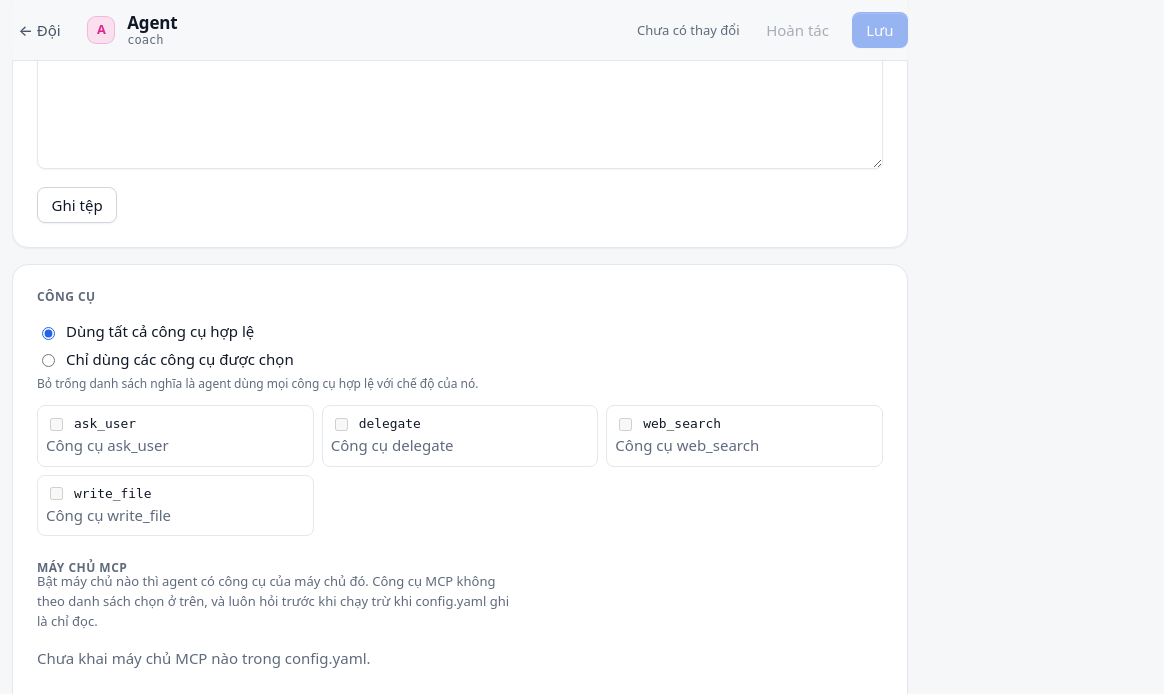
the editor of an agent on a server that reports none of the keys this release added › switches the list on from what the agent holds among those rows, and saves that list alone
(page scrolled)
Click the radio button labelled "Chỉ dùng các công cụ được chọn" at {"x": 48, "y": 361}, box [42,354,55,367]
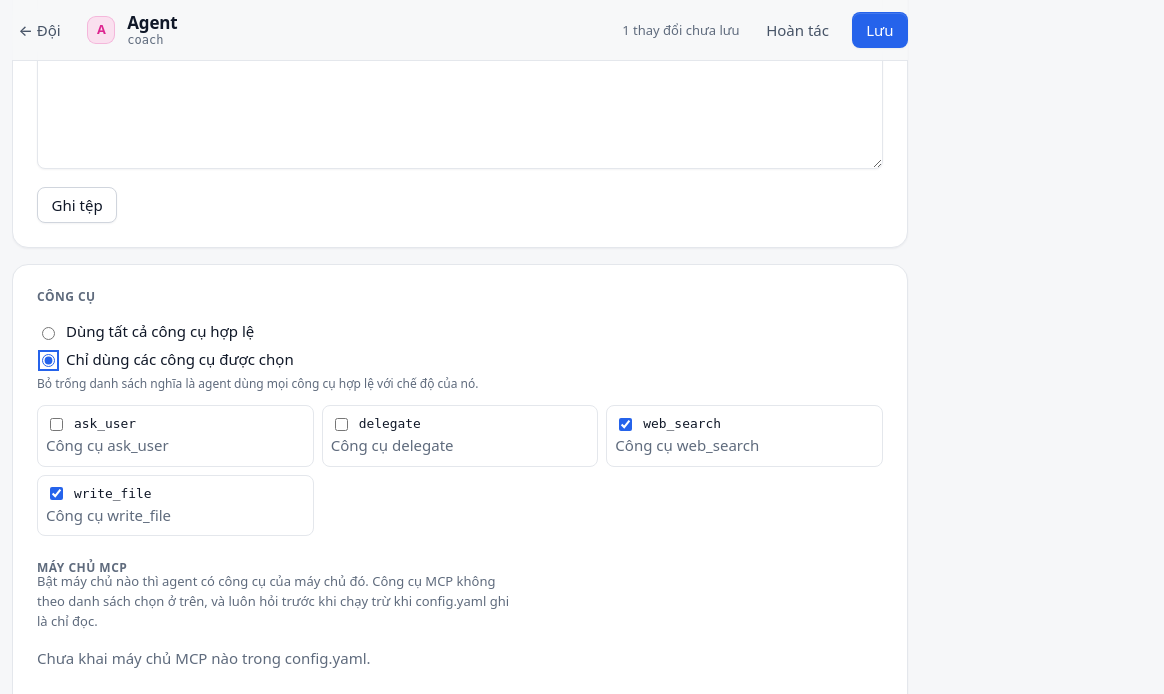
Click the button "Lưu" at {"x": 880, "y": 30}, box [852,12,908,48]
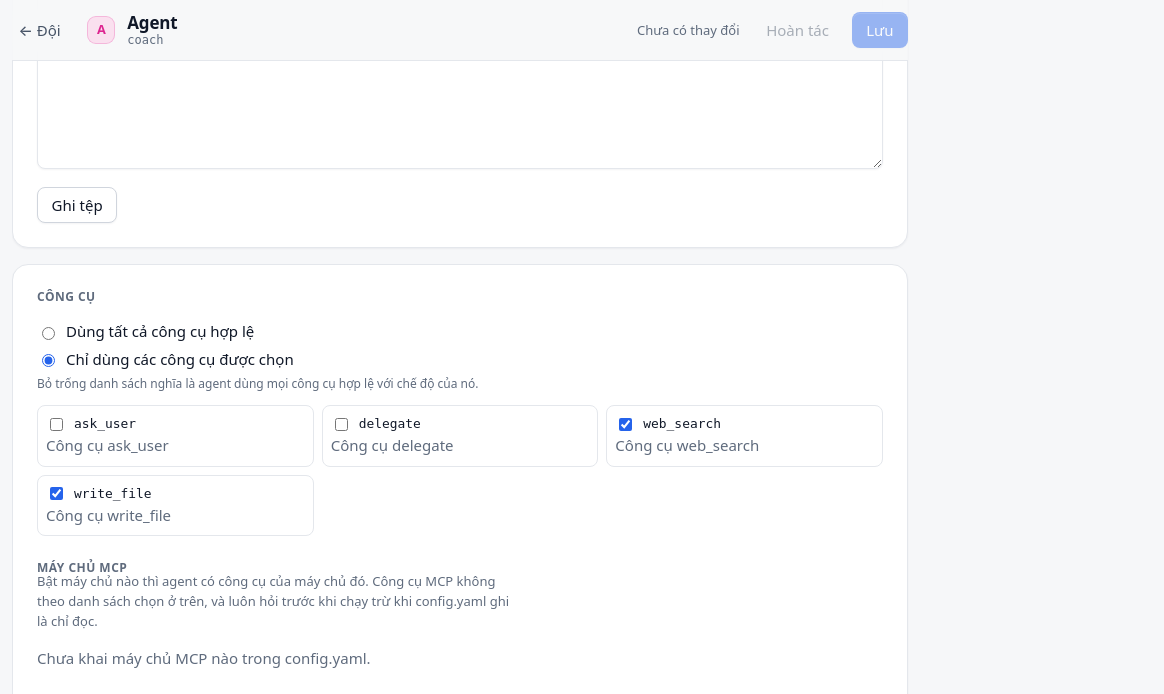
Expected: the radio button labelled "Chỉ dùng các công cụ được chọn" is checked, [42,354,55,367]
Expected: the text "Chưa có thay đổi" is shown, [637,20,740,40]
